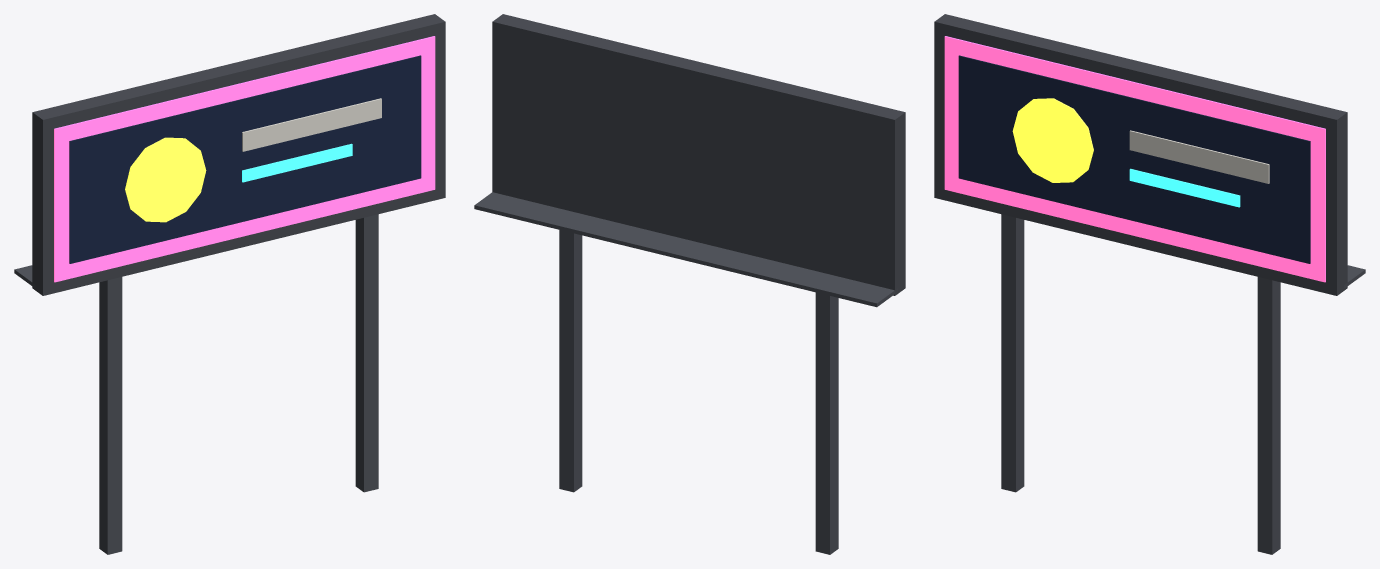
Rendered from billboard.glb.
3 views of the same model, side by side, from view 1: azimuth 30°, elevation 25°; view 2: azimuth 150°, elevation 25°; view 3: azimuth 330°, elevation 25° (orthographic).
Parts seen in each view (by area): view 1: billboard; view 2: billboard; view 3: billboard.
Part boxes in pixels (bbox=[...]): billboard: bbox=[14, 14, 445, 554]; billboard: bbox=[474, 14, 905, 554]; billboard: bbox=[934, 14, 1365, 554].
Size of the model in its own units: 11 by 11.8 by 1.46.
